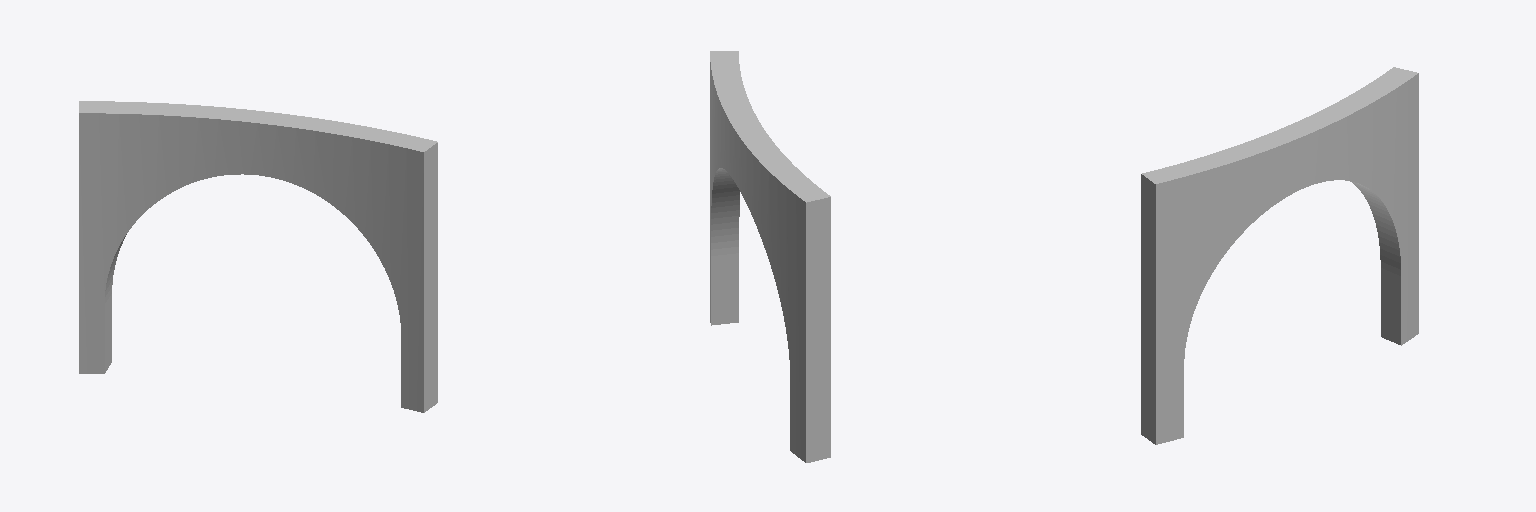
Rendered from wall_door(originalnouvs).obj.
The picture shows the model from 3 angles: view 1: azimuth 30°, elevation 25°; view 2: azimuth 150°, elevation 25°; view 3: azimuth 270°, elevation 25°; orthographic projection.
Visible parts, largest first — view 1: MeshBody8; view 2: MeshBody8; view 3: MeshBody8.
Boxes of the visible parts, <box> form: MeshBody8: <box>79,101,437,412</box>; MeshBody8: <box>710,51,830,462</box>; MeshBody8: <box>1141,67,1418,444</box>.
Size of the model in its own units: 9.65 by 10 by 9.65.